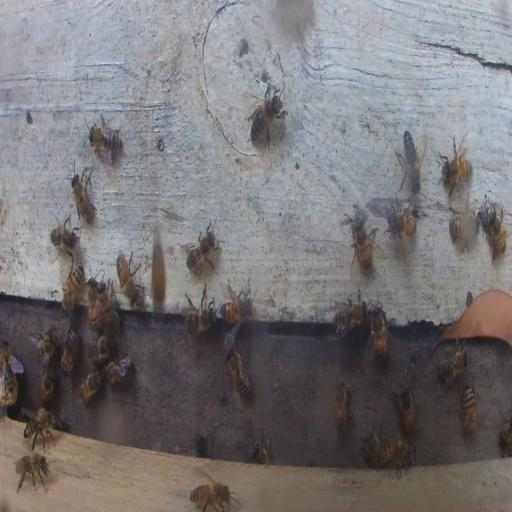nonpollenbee: (244, 82, 289, 152), (183, 220, 221, 279), (385, 198, 417, 262), (86, 113, 123, 167), (440, 134, 472, 194), (348, 207, 376, 274), (396, 130, 424, 194), (481, 201, 508, 261), (332, 293, 367, 338), (23, 409, 62, 449), (68, 171, 96, 224), (391, 377, 416, 436), (190, 478, 232, 511), (381, 438, 417, 476), (15, 453, 50, 492), (116, 248, 140, 304), (184, 291, 214, 335), (50, 212, 78, 256), (218, 291, 253, 326), (226, 345, 250, 395), (369, 301, 388, 362), (98, 284, 120, 334), (62, 262, 83, 314), (458, 383, 477, 435), (34, 327, 60, 364), (438, 350, 468, 382), (0, 341, 24, 381), (60, 325, 78, 377), (360, 424, 382, 466), (103, 356, 133, 385), (333, 376, 349, 430), (77, 369, 101, 404), (449, 212, 472, 246), (2, 363, 18, 410), (86, 279, 100, 332), (40, 365, 55, 407), (90, 335, 110, 364), (250, 438, 270, 464), (500, 410, 512, 451), (198, 435, 208, 456)
pollenbee: (148, 228, 168, 317)
